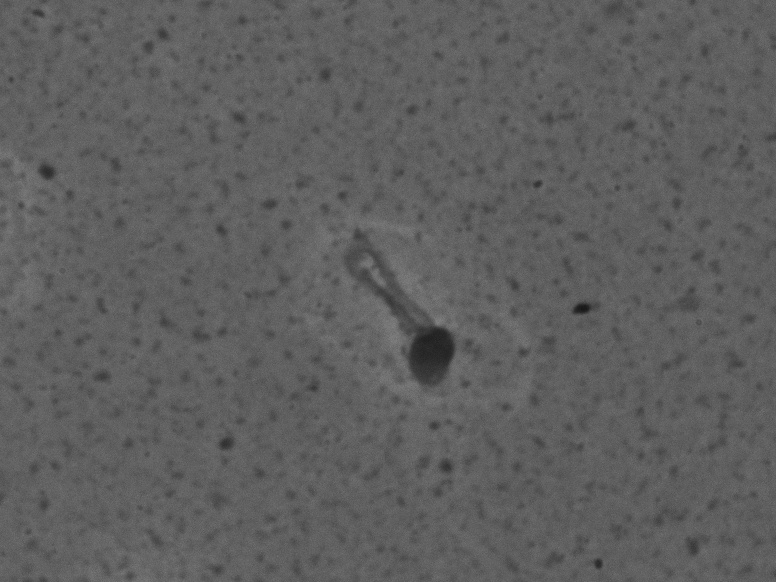Abnormal: (306, 201, 509, 450)
